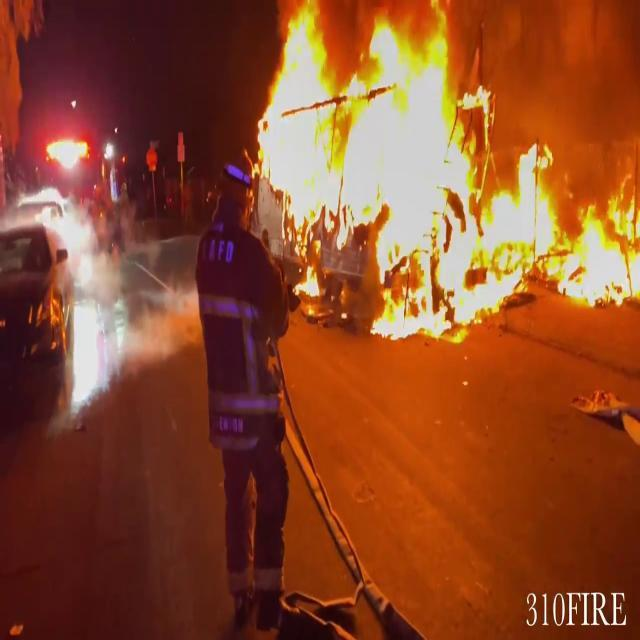Fire: (248, 0, 640, 331)
